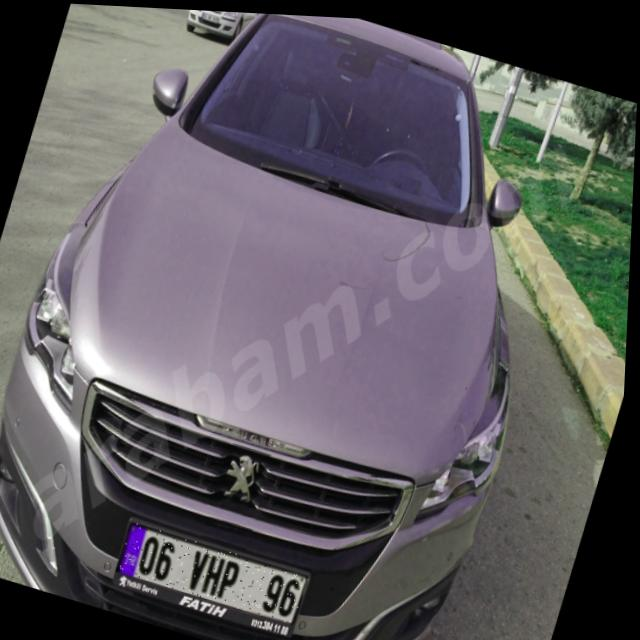license_plate: (119, 519, 315, 622)
